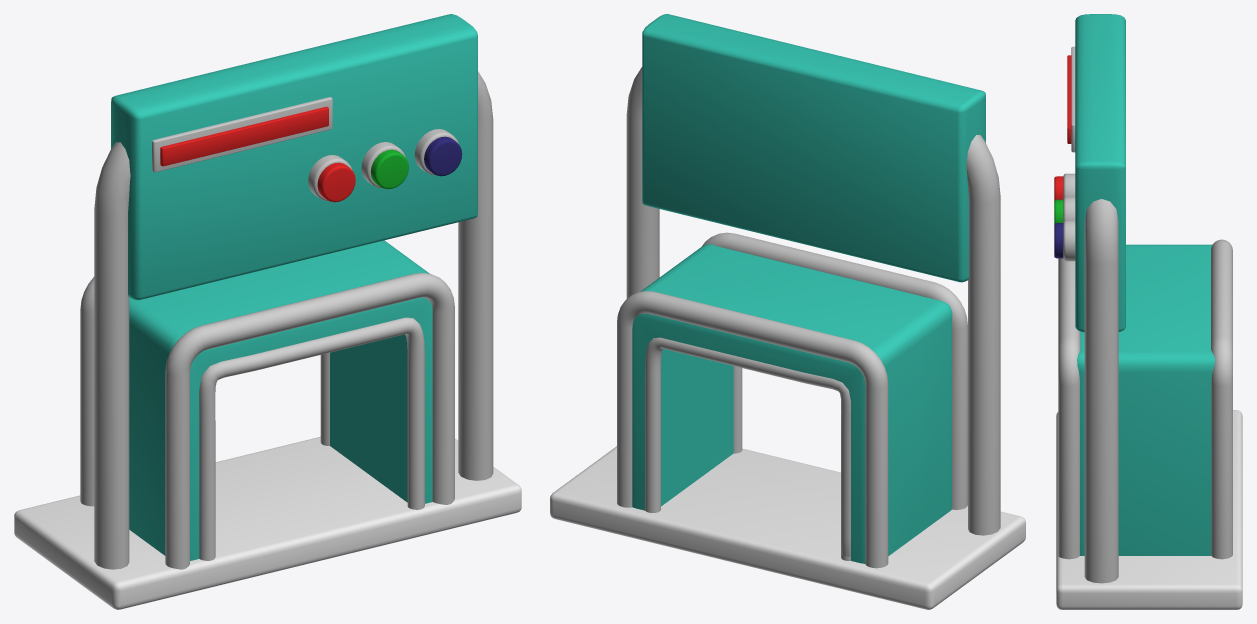
The model's file is baking_machine.FBX.
3 renders of one model, left to right at view 1: azimuth 30°, elevation 25°; view 2: azimuth 150°, elevation 25°; view 3: azimuth 270°, elevation 25°, orthographic. The views are drawn at different scales.
Parts seen in each view (by area): view 1: Gate_board, Line005, Box001, Gate_boundary, Line008, Line010, Gate_board002, Line006, Gate_board001, Cylinder006, Cylinder004, Cylinder002 (+1 smaller); view 2: Gate_board, Line005, Box001, Gate_boundary, Line006, Line008, Line002, Line010; view 3: Line005, Gate_boundary, Gate_board, Box001, Line006, Line008, Cylinder001, Gate_board001, Gate_board002, Cylinder002, Cylinder003, Cylinder005.
Boxes of the visible parts, x1=… form: Gate_board: x1=111, y1=14, x2=477, y2=300; Line005: x1=129, y1=240, x2=432, y2=560; Box001: x1=14, y1=436, x2=521, y2=609; Gate_boundary: x1=94, y1=71, x2=493, y2=569; Line008: x1=165, y1=273, x2=454, y2=569; Line010: x1=199, y1=317, x2=424, y2=560; Gate_board002: x1=160, y1=106, x2=328, y2=166; Line006: x1=80, y1=277, x2=94, y2=506; Gate_board001: x1=152, y1=97, x2=332, y2=172; Cylinder006: x1=317, y1=162, x2=355, y2=202; Cylinder004: x1=370, y1=149, x2=408, y2=189; Cylinder002: x1=424, y1=136, x2=462, y2=176; Gate_board: x1=642, y1=14, x2=985, y2=282; Line005: x1=632, y1=244, x2=952, y2=563; Box001: x1=550, y1=446, x2=1025, y2=609; Gate_boundary: x1=626, y1=67, x2=1000, y2=535; Line006: x1=617, y1=291, x2=888, y2=568; Line008: x1=702, y1=232, x2=967, y2=509; Line002: x1=645, y1=337, x2=850, y2=560; Line010: x1=733, y1=366, x2=742, y2=453; Line005: x1=1077, y1=244, x2=1215, y2=555; Gate_boundary: x1=1084, y1=199, x2=1118, y2=583; Gate_board: x1=1075, y1=14, x2=1125, y2=332; Box001: x1=1056, y1=410, x2=1242, y2=609; Line006: x1=1211, y1=239, x2=1232, y2=559; Line008: x1=1058, y1=258, x2=1080, y2=559; Cylinder001: x1=1063, y1=220, x2=1075, y2=261; Gate_board001: x1=1071, y1=46, x2=1075, y2=152; Gate_board002: x1=1067, y1=55, x2=1071, y2=143; Cylinder002: x1=1054, y1=223, x2=1063, y2=258; Cylinder003: x1=1063, y1=197, x2=1075, y2=222; Cylinder005: x1=1063, y1=173, x2=1075, y2=199.
Bounding box in the file's own units: 191 × 216 × 84.98.
